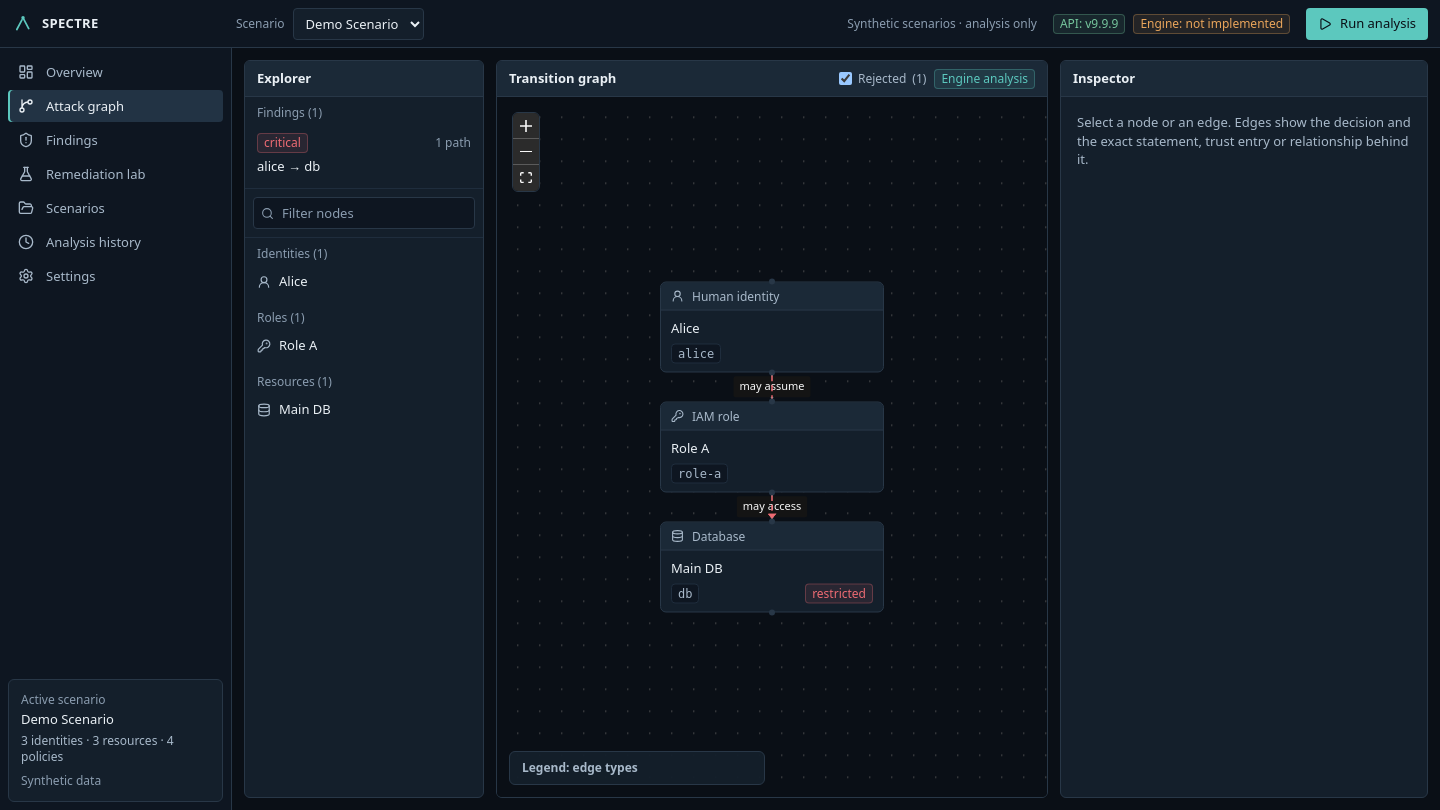
Test: GraphPage › selecting a node in the explorer opens its inspector
This screenshot has width=1440, height=810.
Click the button "Role A": (364, 346) left=245, top=330, right=483, bottom=362
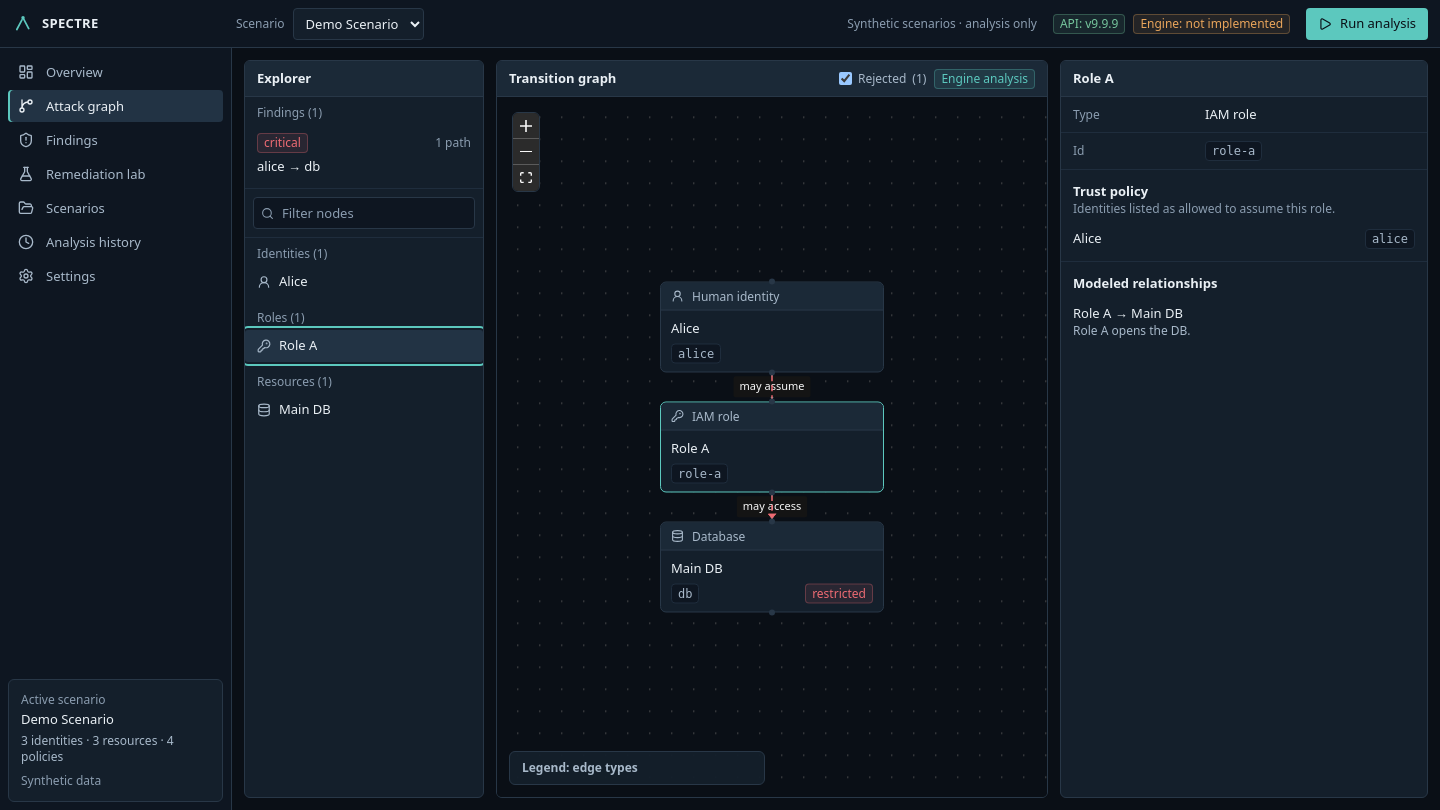
Now the text "IAM role" is shown, box left=1205, top=105, right=1256, bottom=123
Now the heading "Trust policy" is shown, box left=1073, top=182, right=1148, bottom=200
